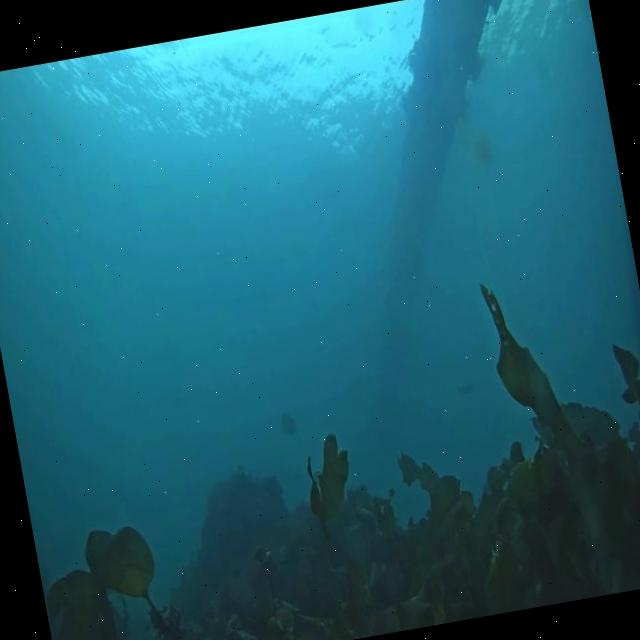fish: (454, 375, 474, 398)
